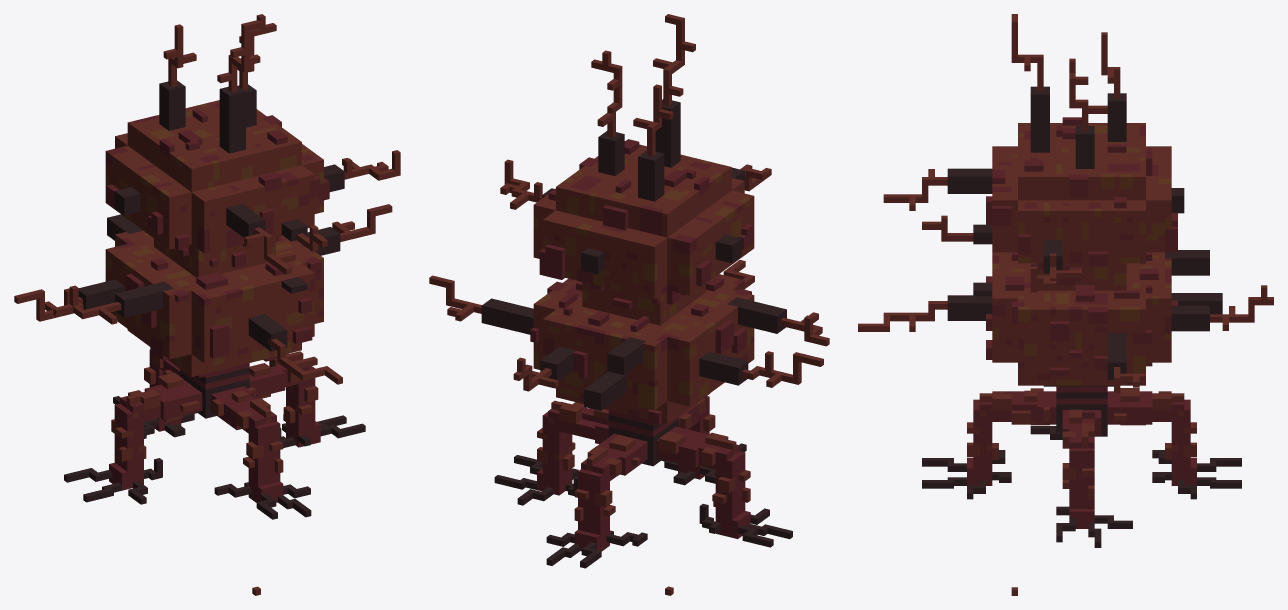
Rendered from Hospital-37.obj.
3 views of the same model, side by side, from view 1: azimuth 30°, elevation 25°; view 2: azimuth 150°, elevation 25°; view 3: azimuth 270°, elevation 25° (orthographic).
Size of the model in its own units: 6.9 by 9.9 by 6.5.
1 material, 1 textured.
